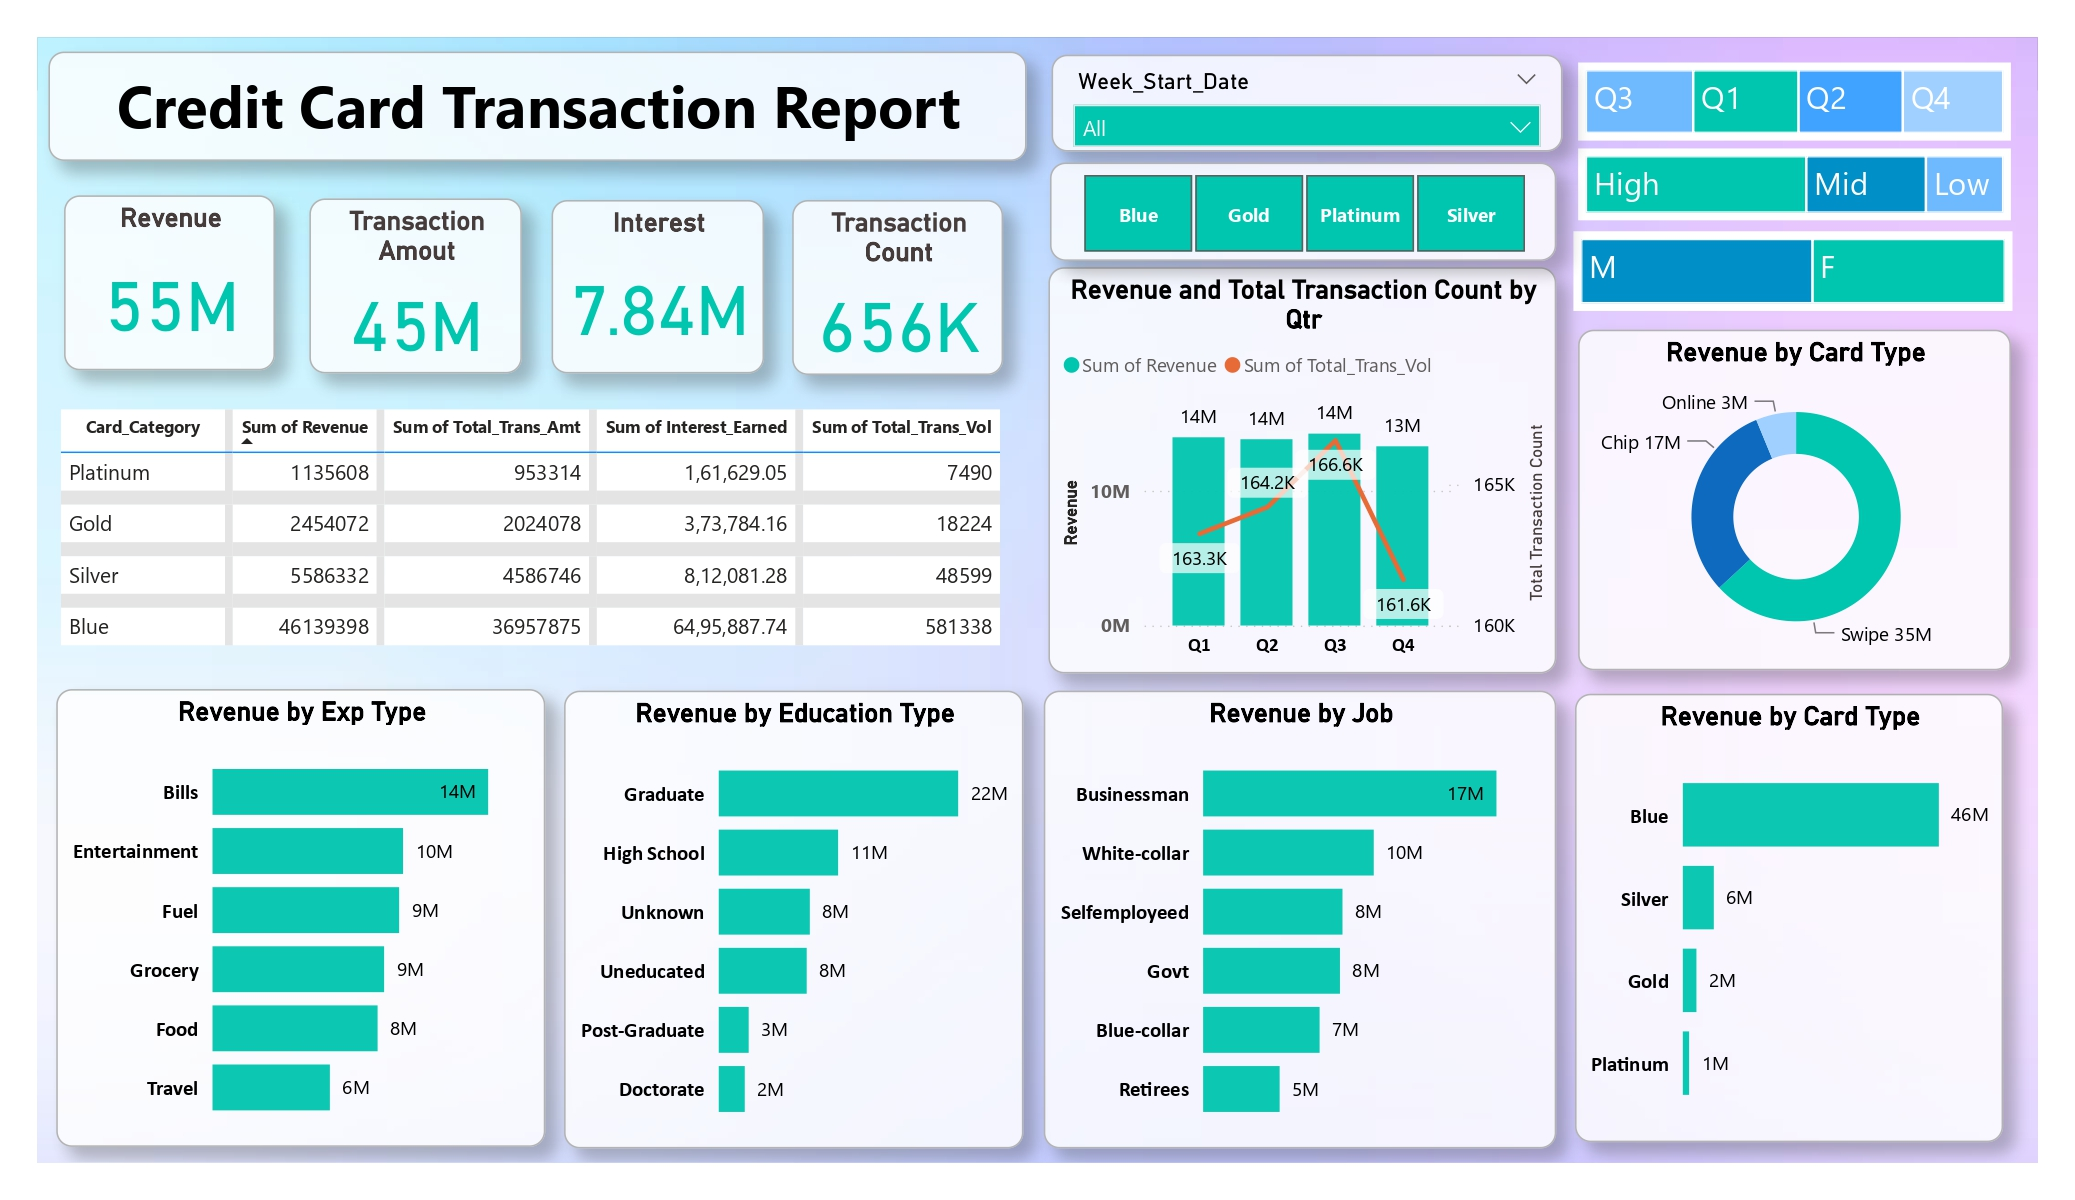

This screenshot's page, from the dashboard's own definition file:
{"tool":"powerbi","page":{"name":"Credit Card Transaction Report","canvas":[1280,720],"ordinal":0},"visuals":[{"type":"textbox","box":[7.3,8.7,625.4,70.5],"z":0},{"type":"lineClusteredColumnComboChart","title":"Revenue and  Total Transaction Count by Qtr","fields":{"Category":["credit_card.Qtr"],"Y":["Sum(credit_card.Revenue)"],"Y2":["Sum(credit_card.Total_Trans_Vol)"]},"box":[647.3,147.2,325.1,259.5],"z":1000},{"type":"clusteredBarChart","title":"Revenue by Exp Type","fields":{"Y":["Sum(credit_card.Revenue)"],"Category":["credit_card.Exp Type"]},"box":[11.7,416.9,313.4,293],"z":2000},{"type":"clusteredBarChart","title":"Revenue by Education Type","fields":{"Y":["Sum(credit_card.Revenue)"],"Category":["customer.Education_Level"]},"box":[336.8,418.4,294,293],"z":3000},{"type":"clusteredBarChart","title":"Revenue by Job","fields":{"Y":["Sum(credit_card.Revenue)"],"Category":["customer.Customer_Job"]},"box":[644.4,418.4,328,293],"z":4000},{"type":"clusteredBarChart","title":"Revenue by Card Type","fields":{"Y":["Sum(credit_card.Revenue)"],"Category":["credit_card.Card_Category"]},"box":[984.1,419.9,274.1,287.2],"z":5000},{"type":"donutChart","title":"Revenue by Card Type","fields":{"Category":["credit_card.Use Chip"],"Y":["Sum(credit_card.Revenue)"]},"box":[985.5,186.6,277,218.7],"z":6000},{"type":"tableEx","fields":{"Values":["credit_card.Card_Category","Sum(credit_card.Revenue)","Sum(credit_card.Total_Trans_Amt)","Sum(credit_card.Interest_Earned)","Sum(credit_card.Total_Trans_Vol)"]},"box":[8.7,233.3,617.6,172],"z":7000},{"type":"card","title":"Revenue ","fields":{"Values":["Sum(credit_card.Revenue)"]},"box":[16.5,100.6,135.6,112.3],"z":8000},{"type":"card","title":"Transaction Amout","fields":{"Values":["Sum(credit_card.Total_Trans_Amt)"]},"box":[174,103,135.6,112.3],"z":9000},{"type":"card","title":"Interest ","fields":{"Values":["Sum(credit_card.Interest_Earned)"]},"box":[329.5,104,135.6,110.8],"z":10000},{"type":"card","title":"Transaction Count","fields":{"Values":["Sum(credit_card.Total_Trans_Vol)"]},"box":[482.6,103.5,135.6,112.3],"z":11000},{"type":"treemap","fields":{"Group":["customer.Gender"],"Values":["Sum(credit_card.Revenue)"]},"box":[983.1,123.9,280.9,51],"z":12000},{"type":"treemap","fields":{"Values":["Sum(credit_card.Revenue)"],"Group":["credit_card.Qtr"]},"box":[986,16,276.5,49.6],"z":13000},{"type":"treemap","fields":{"Values":["Sum(credit_card.Revenue)"],"Group":["customer.IncomeGroup"]},"box":[985.5,71.4,277,45.2],"z":14000},{"type":"slicer","fields":{"Values":["credit_card.Week_Start_Date"]},"box":[649.2,10.7,326.6,62.7],"z":15000},{"type":"slicer","fields":{"Values":["credit_card.Card_Category"]},"box":[647.8,80.2,324.6,62.7],"z":16000}]}

Visuals, with their boxes on the page's 1280x720 design canvas (x1, y1, x2, y2). These are canvas units, not pixel positions in the 2075x1200 screenshot, which may show the page scaled, cropped or inside an application window:
textbox: 7 9 633 79
"Revenue and  Total Transaction Count by Qtr" lineClusteredColumnComboChart: 647 147 972 407
"Revenue by Exp Type" clusteredBarChart: 12 417 325 710
"Revenue by Education Type" clusteredBarChart: 337 418 631 711
"Revenue by Job" clusteredBarChart: 644 418 972 711
"Revenue by Card Type" clusteredBarChart: 984 420 1258 707
"Revenue by Card Type" donutChart: 986 187 1262 405
tableEx - credit_card.Card_Category x Sum(credit_card.Revenue): 9 233 626 405
"Revenue " card: 16 101 152 213
"Transaction Amout" card: 174 103 310 215
"Interest " card: 330 104 465 215
"Transaction Count" card: 483 104 618 216
treemap - customer.Gender x Sum(credit_card.Revenue): 983 124 1264 175
treemap - Sum(credit_card.Revenue) x credit_card.Qtr: 986 16 1262 66
treemap - Sum(credit_card.Revenue) x customer.IncomeGroup: 986 71 1262 117
slicer - credit_card.Week_Start_Date: 649 11 976 73
slicer - credit_card.Card_Category: 648 80 972 143
